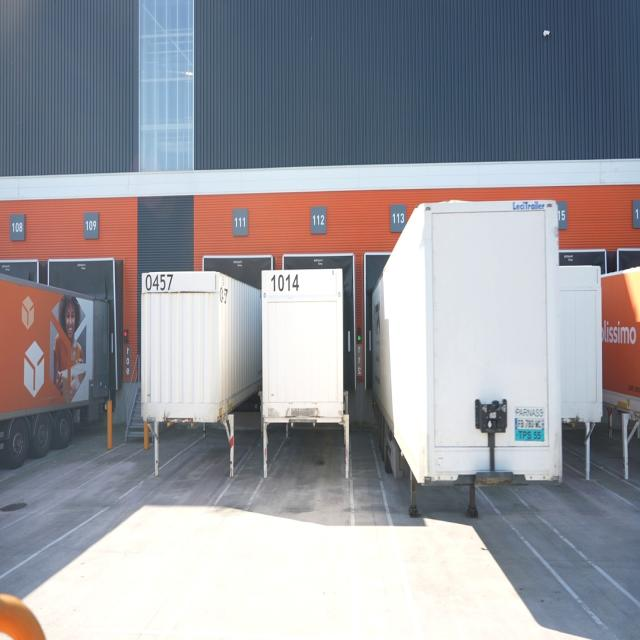Code: (141, 270, 175, 295), (270, 271, 302, 294)
